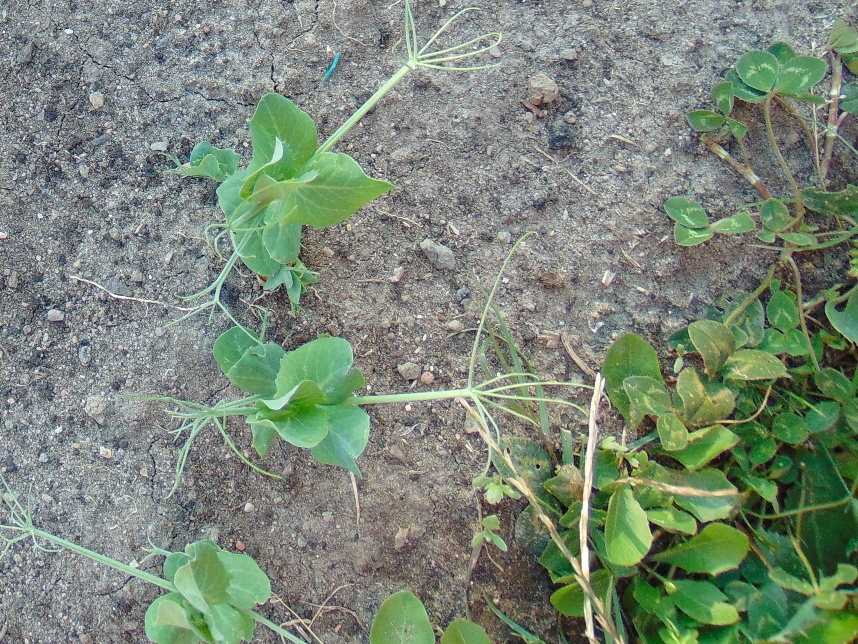crop: (192, 22, 454, 320), (165, 327, 509, 482), (1, 489, 344, 644)
weed: (542, 240, 858, 644), (662, 24, 858, 253), (366, 587, 509, 644)
